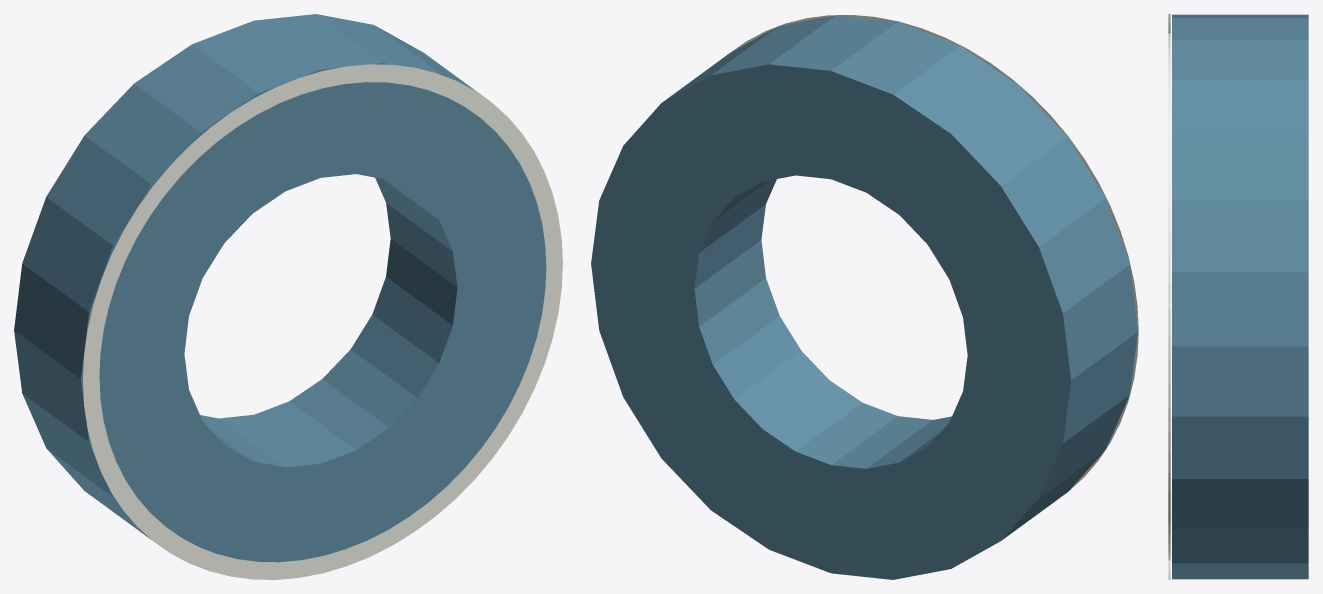
The model's file is american-football-stadium-kit-tackle-wheel-ae0b39f3.glb.
The picture shows the model from 3 angles, left to right: view 1: azimuth 30°, elevation 25°; view 2: azimuth 150°, elevation 25°; view 3: azimuth 270°, elevation 25°; orthographic projection. The views are drawn at different scales.
Visible parts, largest first — view 1: tackle-wheel; view 2: tackle-wheel; view 3: tackle-wheel.
Part boxes in pixels (x1=…): tackle-wheel: x1=14, y1=14, x2=562, y2=579; tackle-wheel: x1=591, y1=15, x2=1138, y2=579; tackle-wheel: x1=1168, y1=14, x2=1308, y2=579.
Size of the model in its own units: 1.16 by 1.16 by 0.288.
